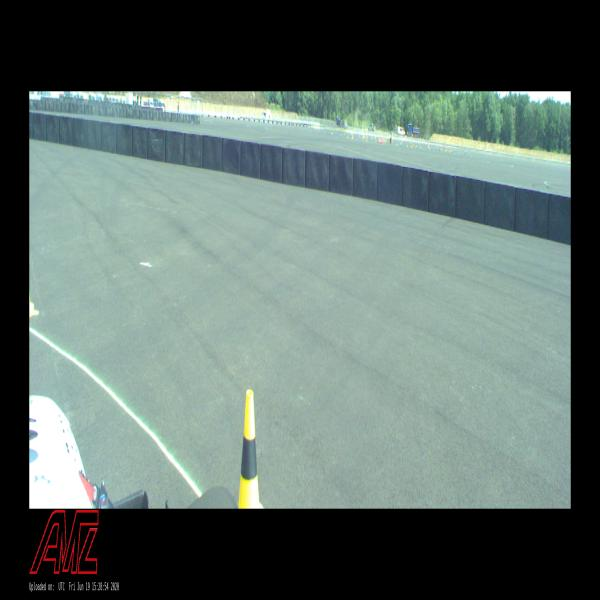yellow_cone: (238, 390, 264, 508)
